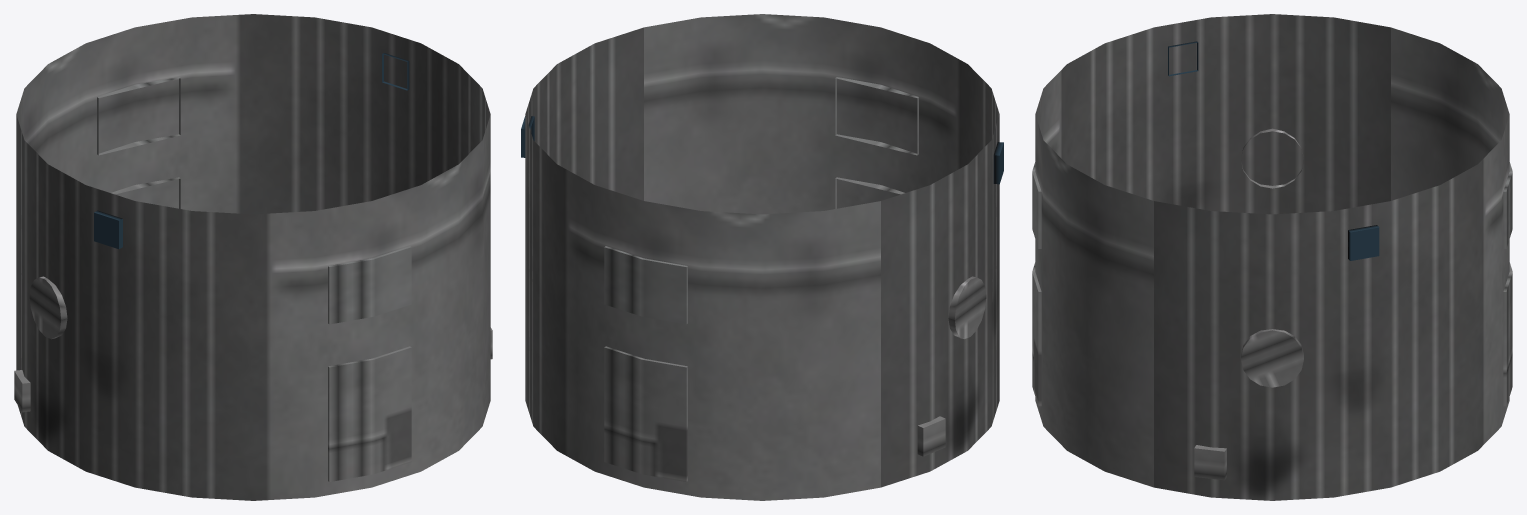
The model's file is short 1p5 crew_naked.obj.
The picture shows the model from 3 angles, left to right: view 1: azimuth 30°, elevation 25°; view 2: azimuth 150°, elevation 25°; view 3: azimuth 270°, elevation 25°; orthographic projection.
Parts seen in each view (by area): view 1: 1; view 2: 1; view 3: 1.
Part boxes in pixels (left/top/right/bottom): 1: left=14, top=14, right=492, bottom=500; 1: left=521, top=14, right=1003, bottom=500; 1: left=1032, top=14, right=1512, bottom=500.
Size of the model in its own units: 1.9 by 1.25 by 1.9.
